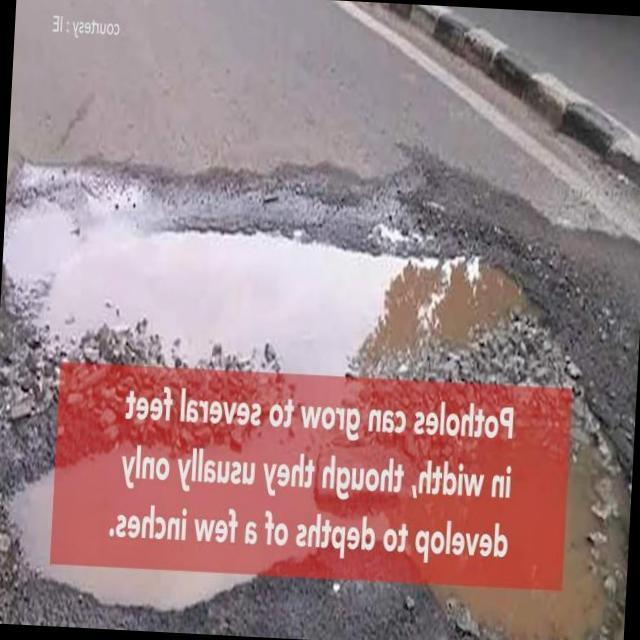Pothole: (3, 206, 570, 383)
